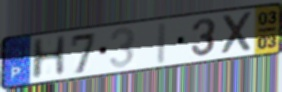3: (108, 25, 140, 70), (188, 17, 218, 59)
7: (70, 33, 99, 75)
H: (29, 34, 68, 82)
I: (154, 21, 169, 66)
X: (221, 9, 255, 57)
